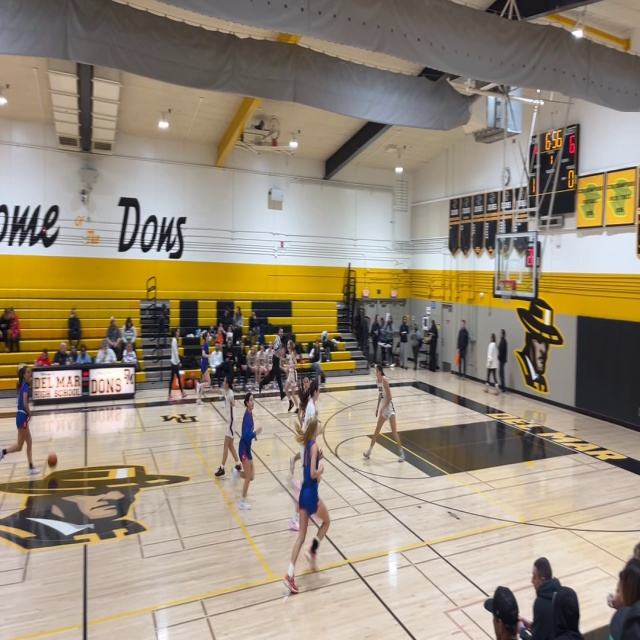Basketball: (47, 453, 57, 466)
